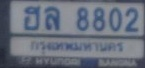txt31: (43, 5, 61, 31)
txt39: (22, 4, 41, 31)
